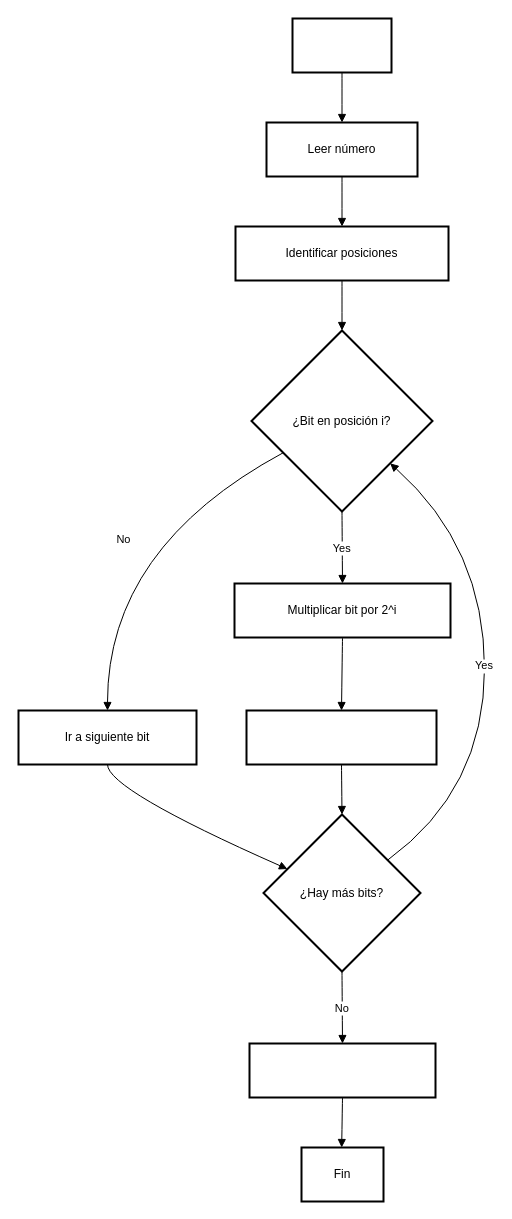
This 512x1219 diagram has some shape labels left out. Each missing label, with the centre of its shape:
Inicio: (x=341, y=45)
Mostrar resultado: (x=342, y=1070)
Suma acumulativa: (x=341, y=737)
